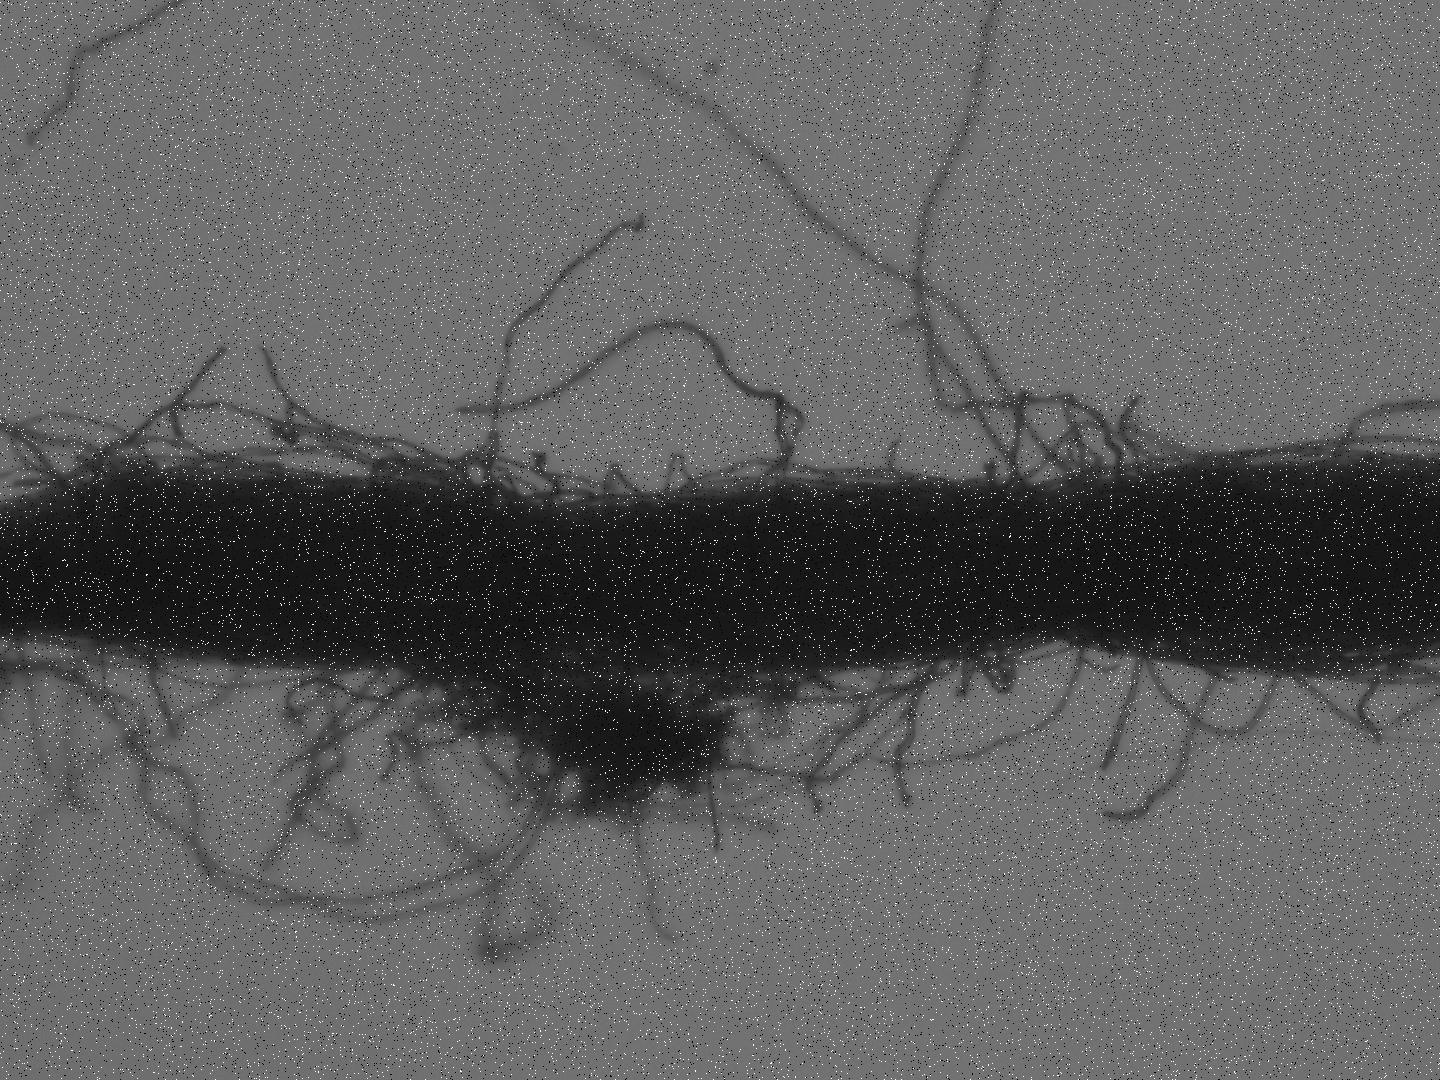loop_fiber: (79, 436, 313, 507), (1154, 660, 1282, 739), (1020, 422, 1164, 486), (780, 660, 962, 704), (957, 642, 1040, 698), (374, 452, 475, 492), (600, 459, 649, 512), (667, 457, 704, 498)
protruding_fiber: (461, 315, 805, 492), (483, 212, 647, 487), (1108, 666, 1227, 821), (1102, 648, 1150, 778), (895, 664, 937, 808), (144, 631, 180, 746)
